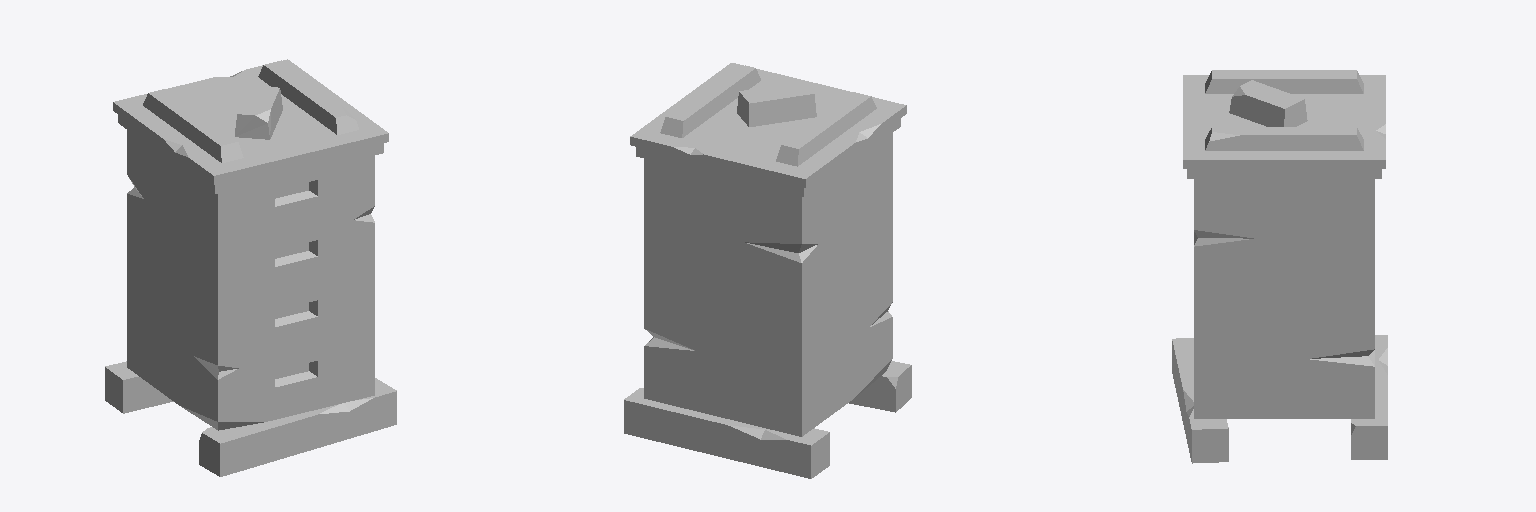
Rendered from SM_Prop_Beehive_04.obj.
3 views of the same model, side by side, from view 1: azimuth 30°, elevation 25°; view 2: azimuth 150°, elevation 25°; view 3: azimuth 270°, elevation 25° (orthographic).
Bounding box in the file's own units: 78.82 × 124 × 75.67.